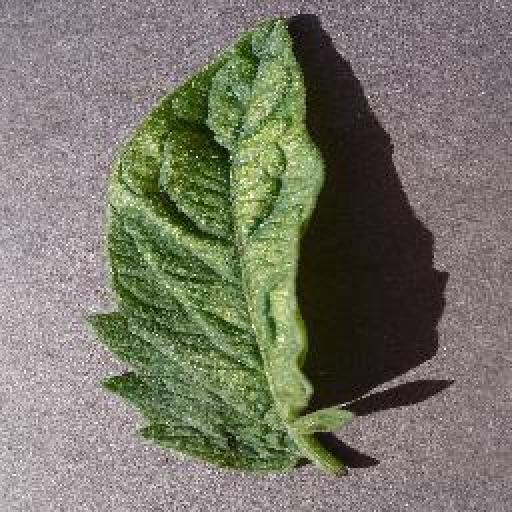Spider Mites: (89, 16, 356, 475)
